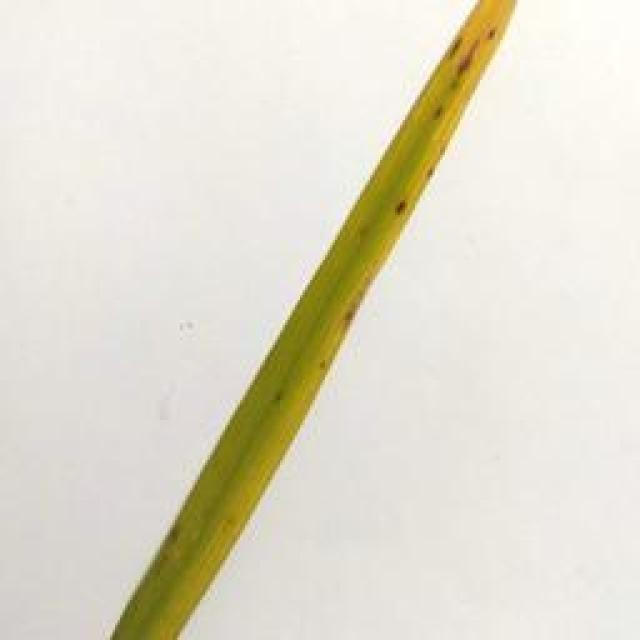Brown_Spot: (314, 259, 400, 395), (449, 18, 511, 86), (386, 192, 423, 222), (426, 100, 458, 128), (164, 520, 182, 564)
